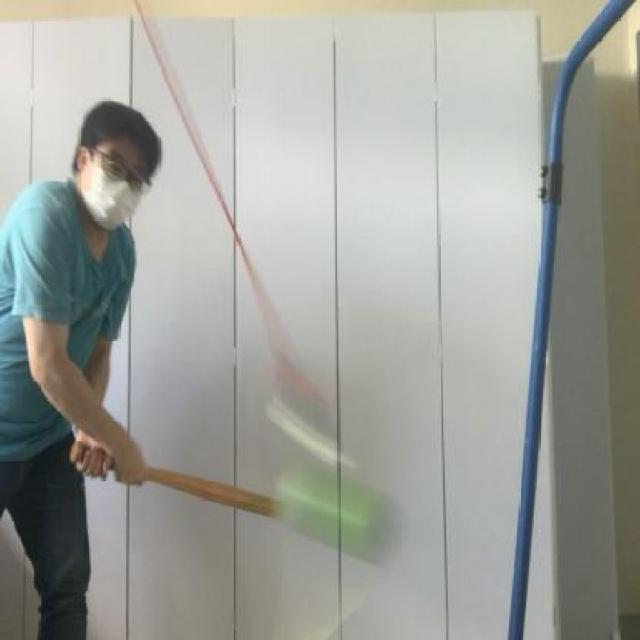baseball: (267, 441, 415, 584)
